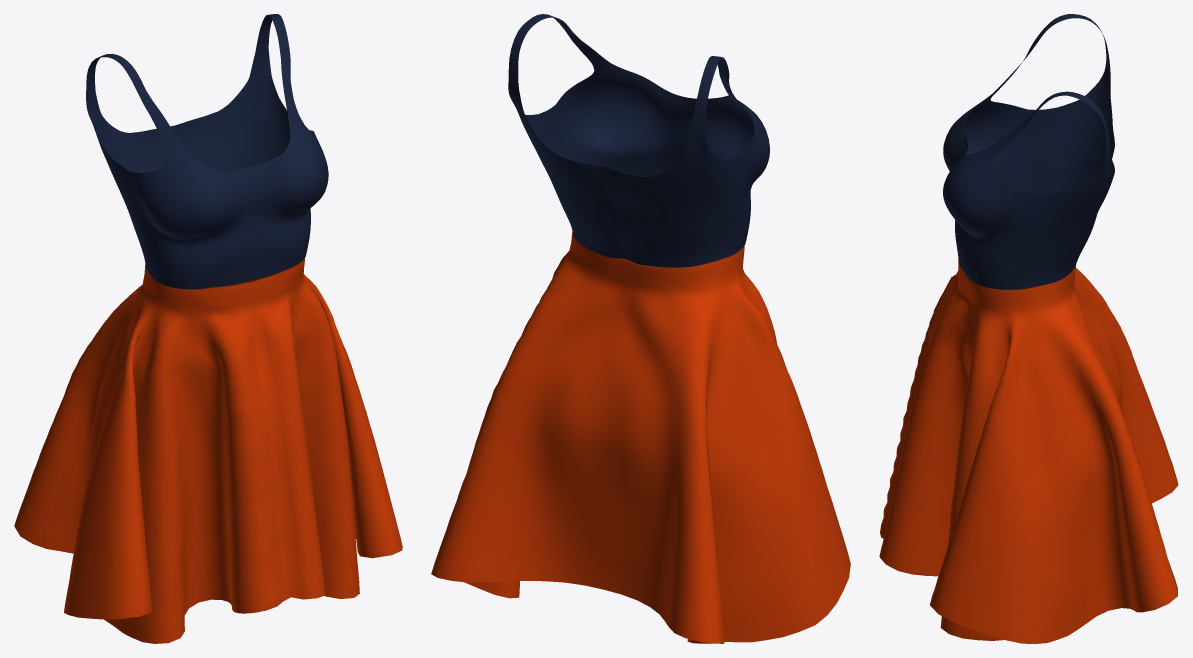
Rendered from low_poly_female_skirt_dress.glb.
The picture shows the model from 3 angles, left to right: view 1: azimuth 30°, elevation 25°; view 2: azimuth 150°, elevation 25°; view 3: azimuth 270°, elevation 25°; orthographic projection. The views are drawn at different scales.
Visible parts, largest first — view 1: Skirt_FBX, Top_FBX; view 2: Skirt_FBX, Top_FBX; view 3: Skirt_FBX, Top_FBX.
Boxes of the visible parts, left/top/right/bottom form: Skirt_FBX: left=14, top=258, right=402, bottom=643; Top_FBX: left=86, top=14, right=328, bottom=289; Skirt_FBX: left=431, top=232, right=850, bottom=643; Top_FBX: left=508, top=14, right=769, bottom=267; Skirt_FBX: left=879, top=259, right=1178, bottom=643; Top_FBX: left=943, top=14, right=1114, bottom=289.
Size of the model in its own units: 0.5269 by 0.8658 by 0.4413.
Materials: 3 (3 with a texture image).
